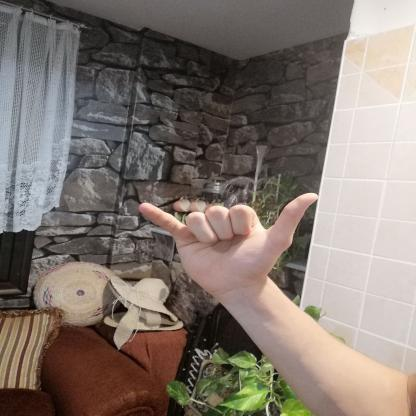YA: (124, 184, 332, 306)
